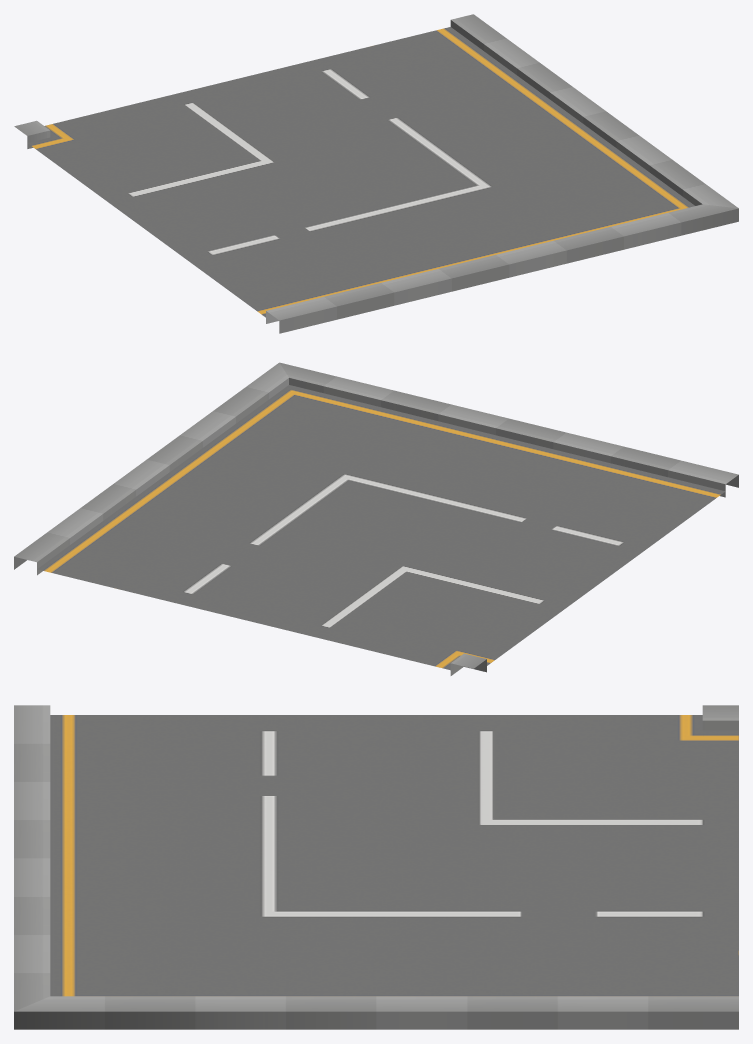
The model's file is Road_G.fbx.
3 views of the same model, one above another, from view 1: azimuth 30°, elevation 25°; view 2: azimuth 150°, elevation 25°; view 3: azimuth 270°, elevation 25° (orthographic). The views are drawn at different scales.
Parts seen in each view (by area): view 1: Road_G; view 2: Road_G; view 3: Road_G.
Part boxes in pixels (<box>): Road_G: <box>14,14,738,333</box>; Road_G: <box>14,362,738,675</box>; Road_G: <box>14,705,738,1029</box>.
Bounding box in the file's own units: 2000 × 55.12 × 2000.
